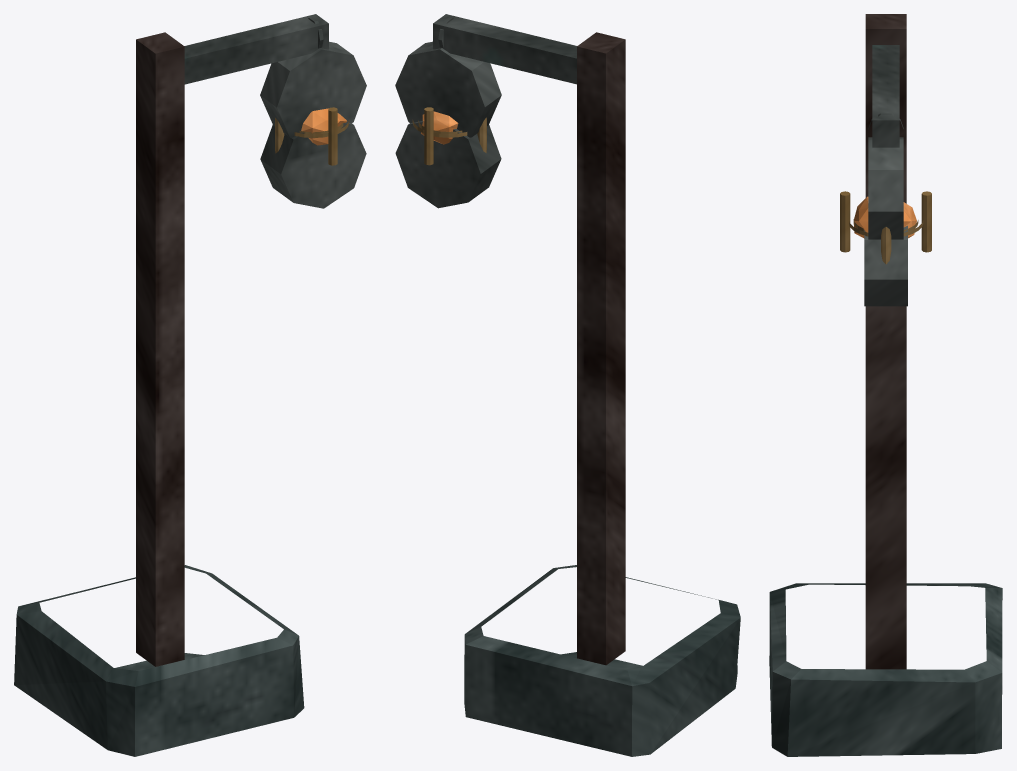
The model's file is 0721_lantern_post_21.glb.
3 renders of one model, left to right at view 1: azimuth 30°, elevation 25°; view 2: azimuth 150°, elevation 25°; view 3: azimuth 270°, elevation 25°, orthographic. The views are drawn at different scales.
Parts seen in each view (by area): view 1: wood_dark, stone_dark, iron, brass, amber; view 2: wood_dark, stone_dark, iron, brass; view 3: stone_dark, wood_dark, iron, brass, amber.
Part boxes in pixels (x1,y1,x2,y2): wood_dark: (136, 32, 184, 666); stone_dark: (14, 565, 304, 756); iron: (184, 14, 366, 208); brass: (275, 107, 349, 165); amber: (301, 108, 347, 145); wood_dark: (577, 32, 625, 665); stone_dark: (464, 565, 740, 756); iron: (395, 14, 576, 208); brass: (412, 107, 486, 165); stone_dark: (769, 583, 1002, 756); wood_dark: (865, 14, 906, 669); iron: (864, 45, 907, 306); brass: (840, 191, 931, 264); amber: (853, 196, 916, 238).
Bounding box in the file's own units: 1.31 × 2.8 × 0.8557.
5 materials, 5 textured.
